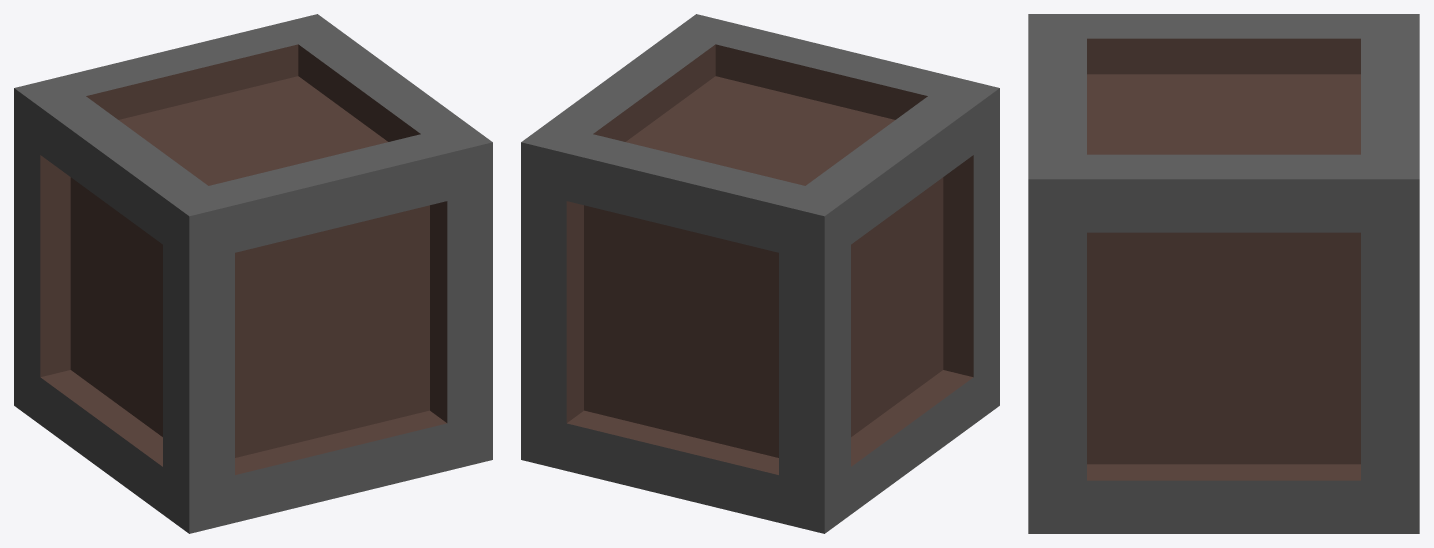
Rendered from Crate.fbx.
3 renders of one model, left to right at view 1: azimuth 30°, elevation 25°; view 2: azimuth 150°, elevation 25°; view 3: azimuth 270°, elevation 25°, orthographic. The views are drawn at different scales.
Parts seen in each view (by area): view 1: Crate; view 2: Crate; view 3: Crate.
Part boxes in pixels (<box>): Crate: <box>14,14,492,533</box>; Crate: <box>521,14,999,533</box>; Crate: <box>1028,14,1419,533</box>.
Bounding box in the file's own units: 1 × 1 × 1.
Materials: 1 (1 with a texture image).
